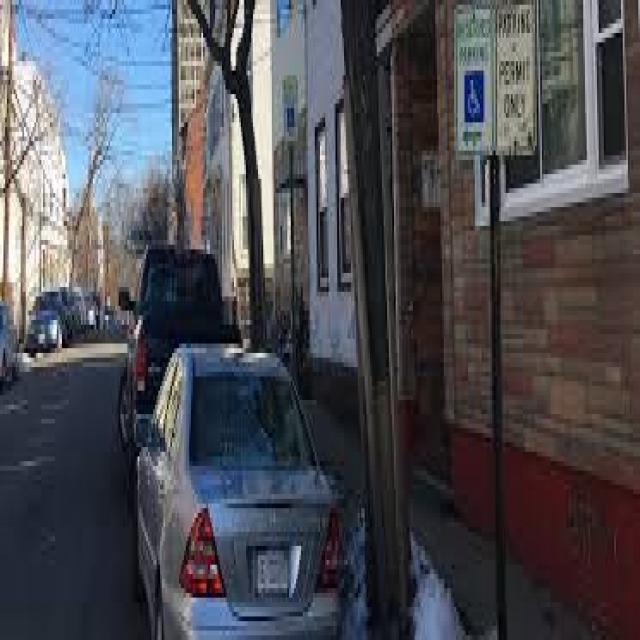car-handicap-placard: (466, 73, 484, 119)
